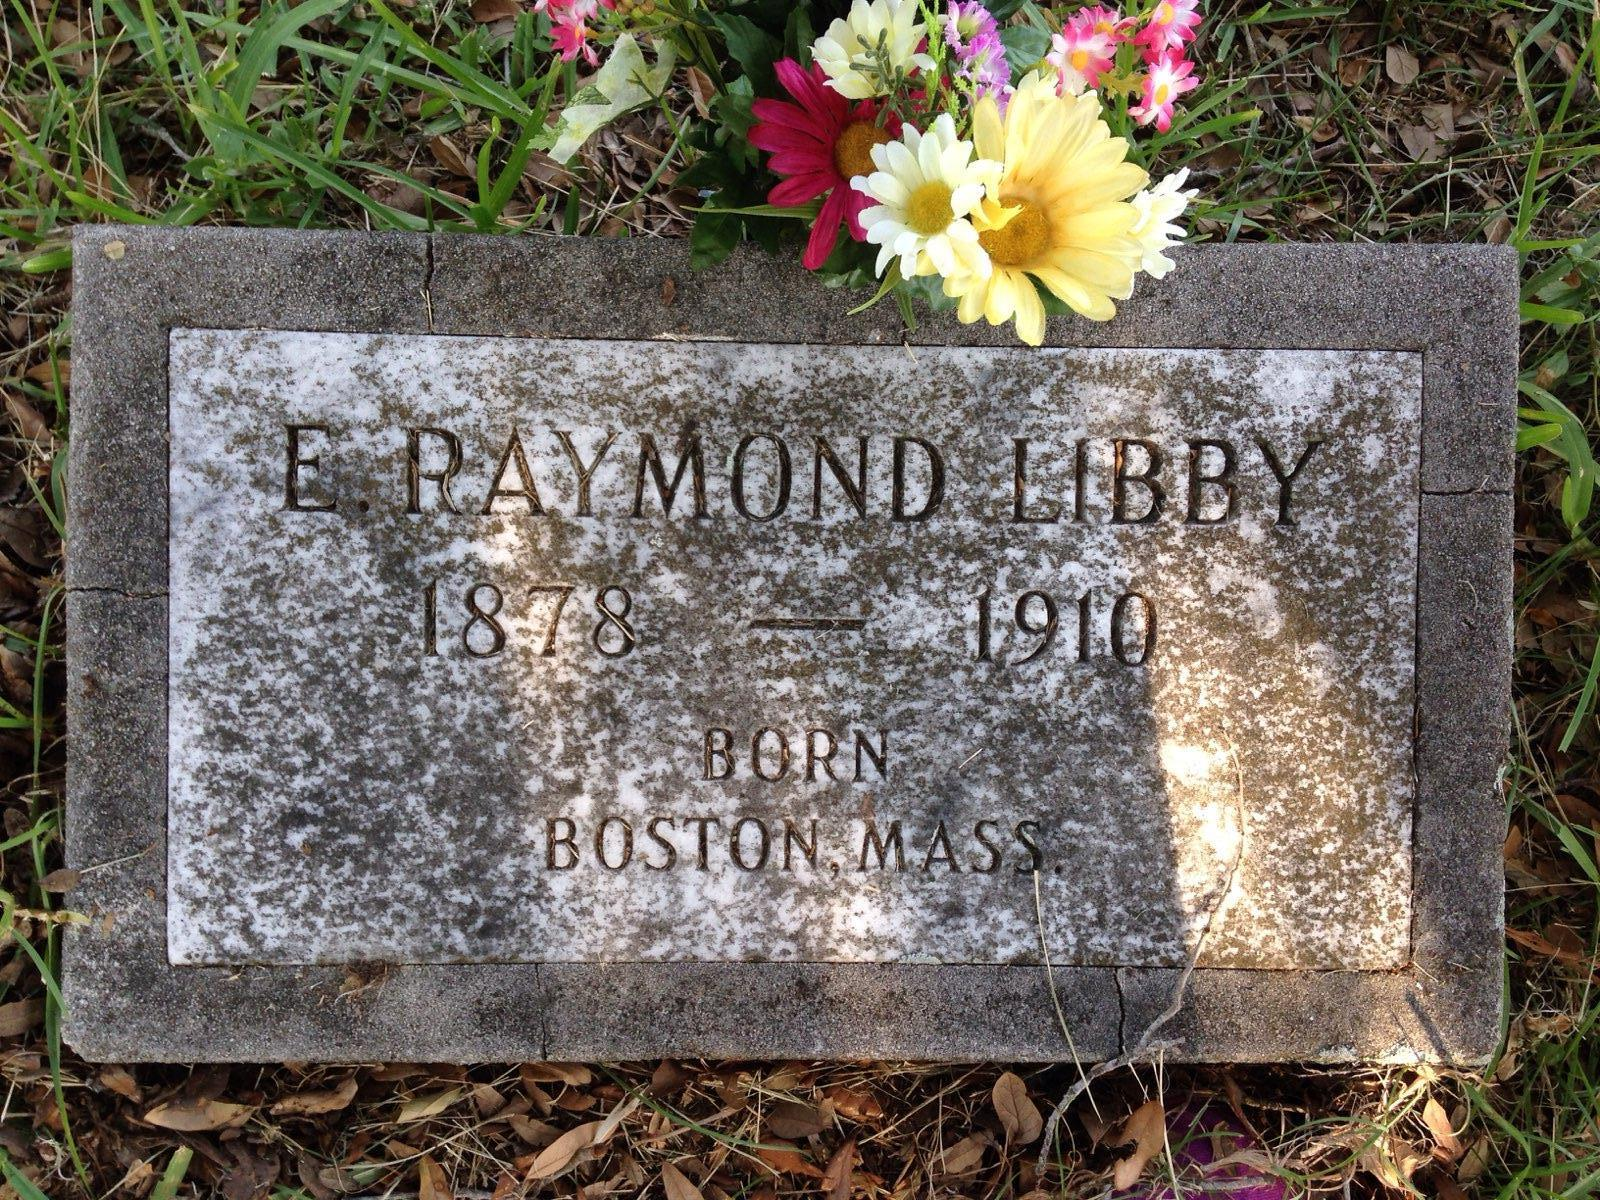flat: (31, 176, 1534, 1104)
